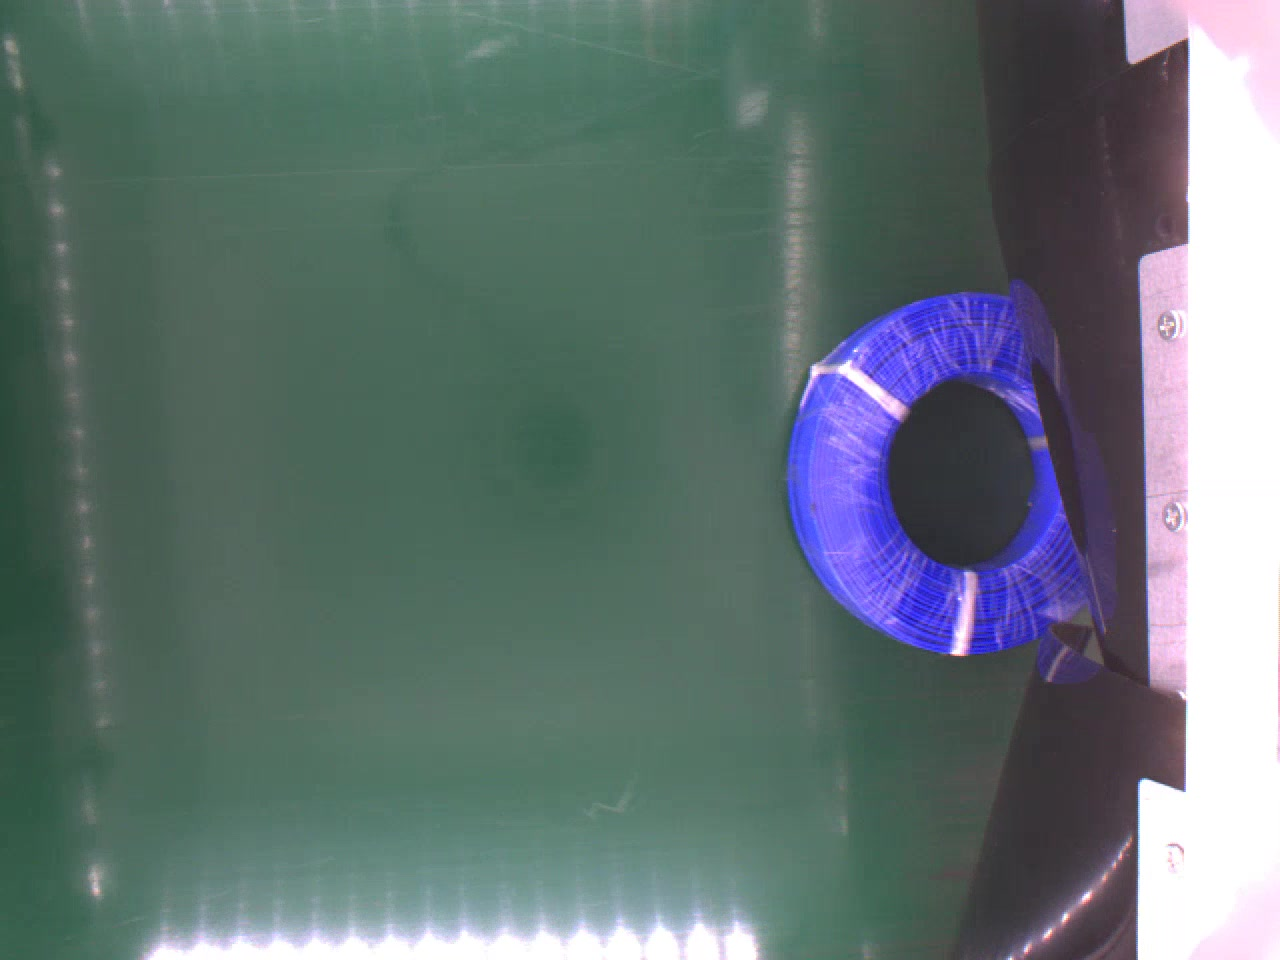blue: (787, 289, 1089, 657)
